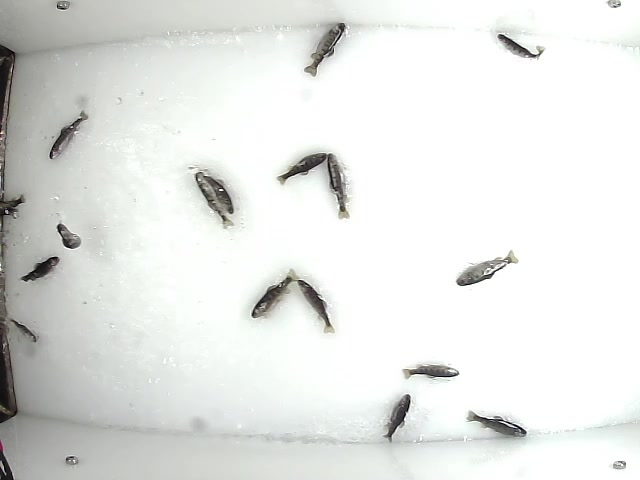fish: (247, 266, 301, 321), (304, 18, 347, 84), (453, 247, 521, 287), (296, 276, 337, 337), (44, 110, 90, 163), (194, 170, 231, 227), (463, 407, 528, 438), (274, 150, 327, 185), (328, 150, 352, 221), (199, 175, 236, 216), (382, 391, 410, 444), (399, 361, 462, 382), (498, 34, 546, 61), (18, 254, 59, 284), (7, 315, 41, 344), (57, 220, 84, 254)
